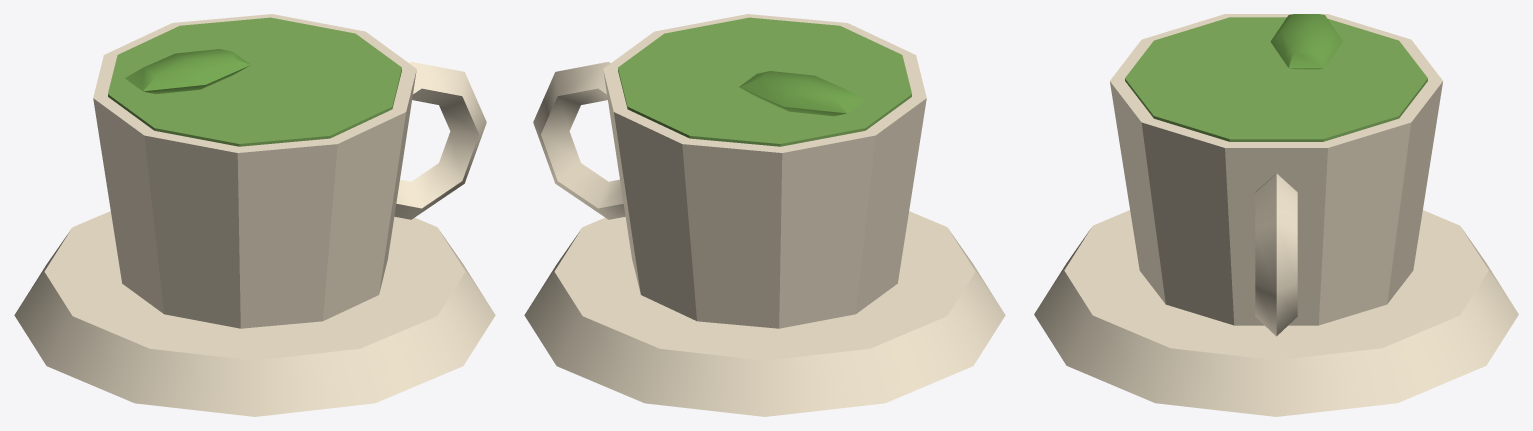
Rendered from PR_Drink_Cay.fbx.
3 views of the same model, side by side, from view 1: azimuth 30°, elevation 25°; view 2: azimuth 150°, elevation 25°; view 3: azimuth 270°, elevation 25° (orthographic).
Visible parts, largest first — view 1: PR_Drink_Cay; view 2: PR_Drink_Cay; view 3: PR_Drink_Cay.
Part boxes in pixels (<box>): PR_Drink_Cay: <box>14,14,495,416</box>; PR_Drink_Cay: <box>524,14,1005,416</box>; PR_Drink_Cay: <box>1034,14,1518,416</box>.
Size of the model in its own units: 0.169 by 0.0945 by 0.16.
